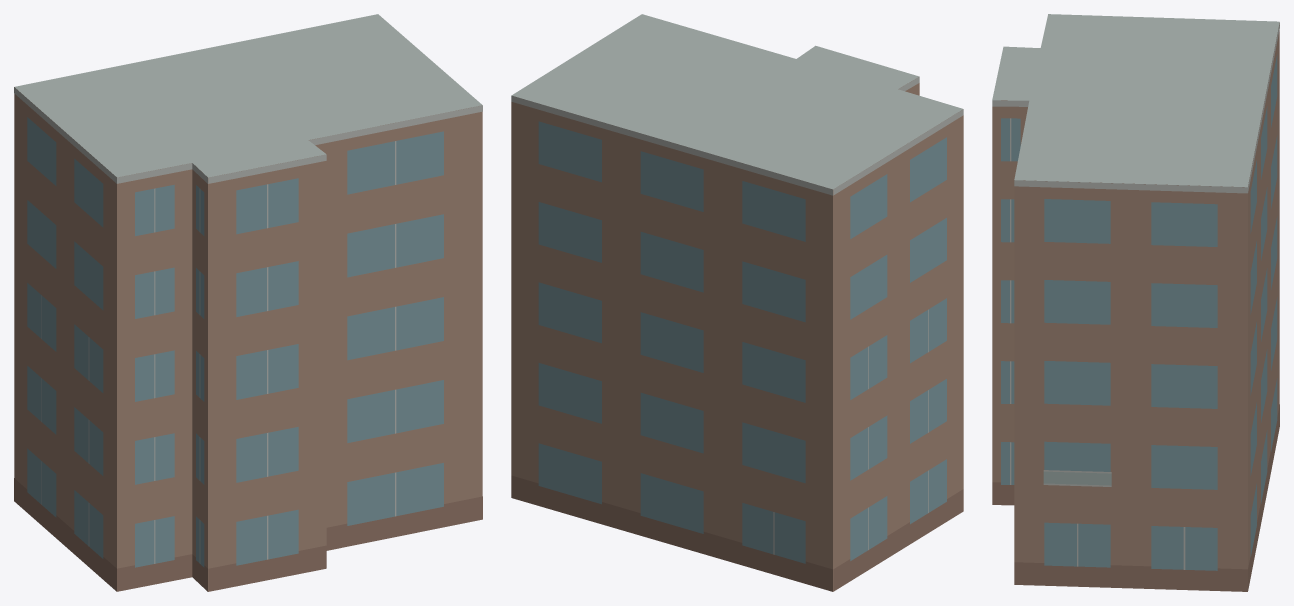
Rendered from survey-upis-33023123.glb.
The picture shows the model from 3 angles, left to right: view 1: azimuth 30°, elevation 25°; view 2: azimuth 150°, elevation 25°; view 3: azimuth 270°, elevation 25°; orthographic projection. The views are drawn at different scales.
Visible parts, largest first — view 1: survey-upis-33023123.tmp; view 2: survey-upis-33023123.tmp; view 3: survey-upis-33023123.tmp.
Boxes of the visible parts, x1=… form: survey-upis-33023123.tmp: x1=14, y1=14, x2=482, y2=591; survey-upis-33023123.tmp: x1=511, y1=14, x2=963, y2=591; survey-upis-33023123.tmp: x1=992, y1=14, x2=1279, y2=591.
Bounding box in the file's own units: 14.51 × 15.8 × 10.19.
